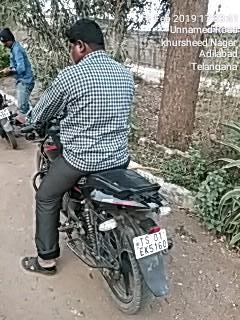plate: (128, 227, 170, 261)
